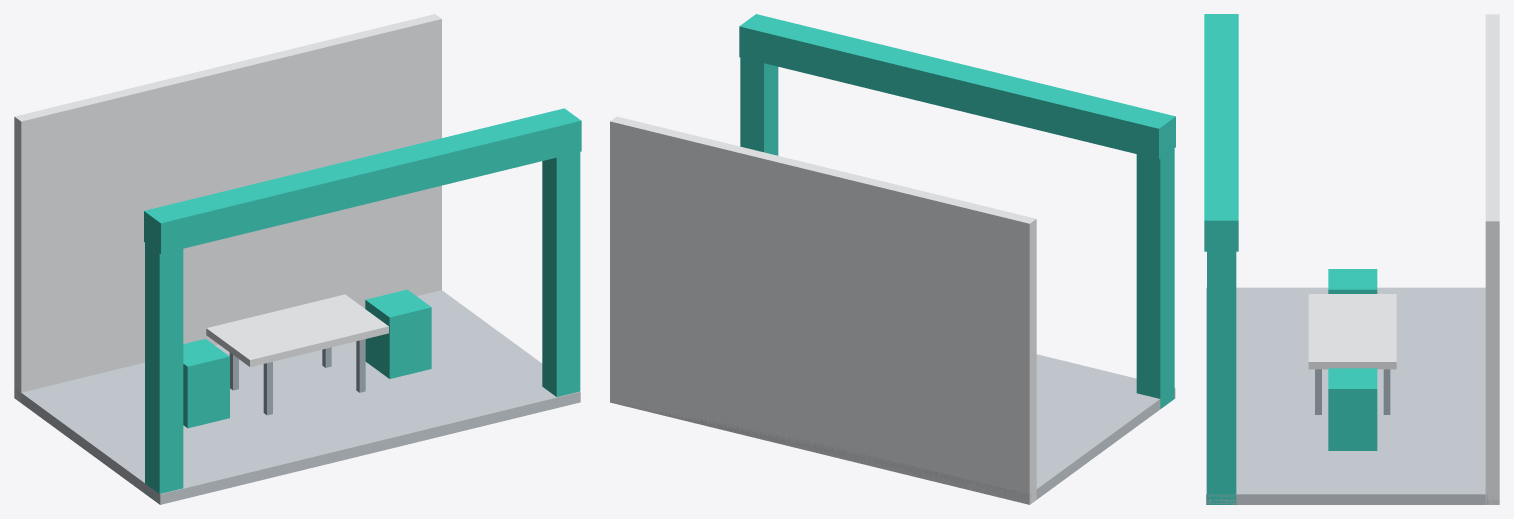
The picture shows the model from 3 angles, left to right: view 1: azimuth 30°, elevation 25°; view 2: azimuth 150°, elevation 25°; view 3: azimuth 270°, elevation 25°; orthographic projection.
Parts seen in each view (by area): view 1: Exhibition Booth Concept; view 2: Exhibition Booth Concept; view 3: Exhibition Booth Concept.
Boxes of the visible parts, x1,y1,x2,y2 form: Exhibition Booth Concept: [14, 14, 581, 504]; Exhibition Booth Concept: [610, 14, 1175, 504]; Exhibition Booth Concept: [1204, 14, 1499, 504].
Size of the model in its own units: 5 by 3.2 by 3.01.
